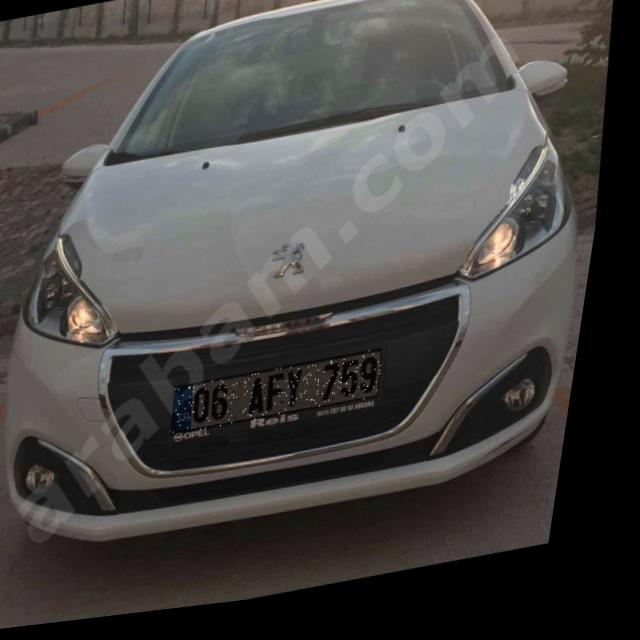license_plate: (181, 359, 398, 441)
